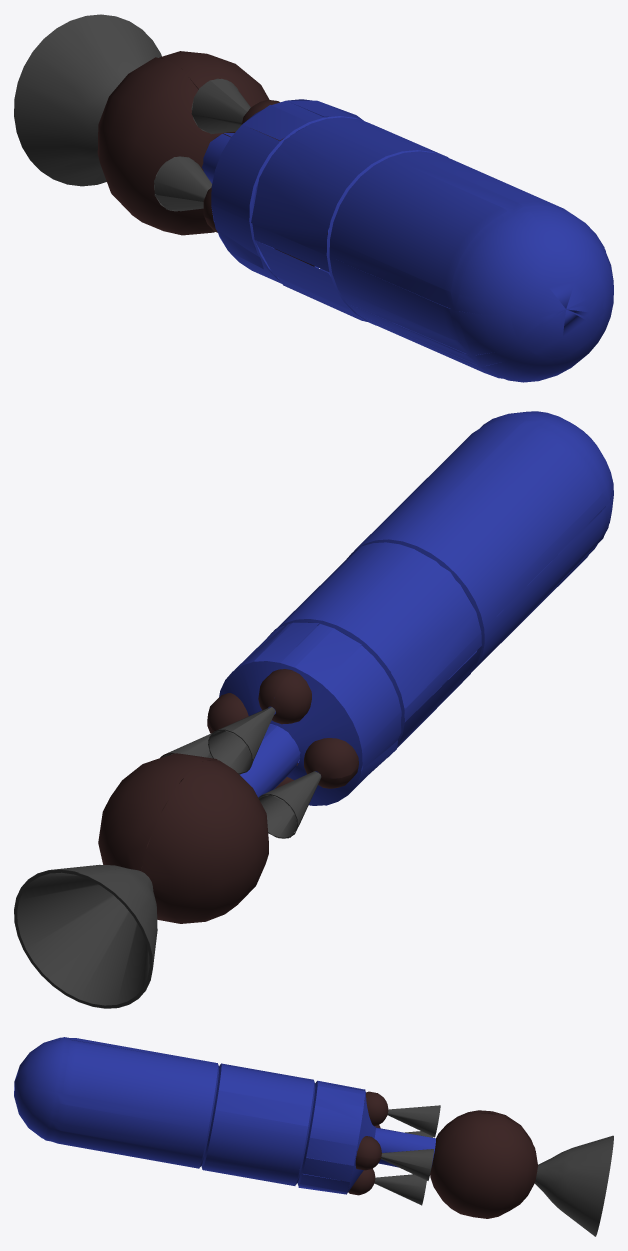
File: missile_7_body.fbx
The picture shows the model from 3 angles, top to bottom: view 1: azimuth 30°, elevation 25°; view 2: azimuth 150°, elevation 25°; view 3: azimuth 270°, elevation 25°; orthographic projection. The views are drawn at different scales.
Parts seen in each view (by area): view 1: missle body_2, thruster 04_6, thruster 01_3; view 2: missle body_2, thruster 01_3, thruster 04_6, thruster 02_4; view 3: missle body_2, thruster 02_4, thruster 01_3, thruster 03_5.
Boxes of the visible parts, bbox=[...] form: missle body_2: bbox=[14, 14, 613, 382]; thruster 04_6: bbox=[154, 156, 217, 232]; thruster 01_3: bbox=[191, 78, 283, 140]; missle body_2: bbox=[14, 411, 613, 1008]; thruster 01_3: bbox=[208, 669, 311, 774]; thruster 04_6: bbox=[258, 738, 358, 838]; thruster 02_4: bbox=[160, 693, 248, 758]; missle body_2: bbox=[14, 1037, 613, 1236]; thruster 02_4: bbox=[355, 1136, 434, 1180]; thruster 01_3: bbox=[364, 1091, 440, 1137]; thruster 03_5: bbox=[341, 1168, 426, 1205].
Bounding box in the file's own units: 113 × 188 × 558.
